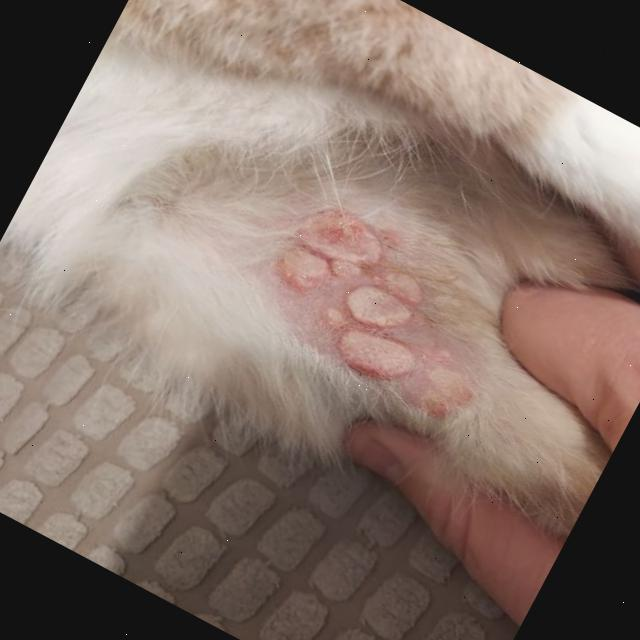cat-lump-and-bump: (244, 186, 516, 432)
